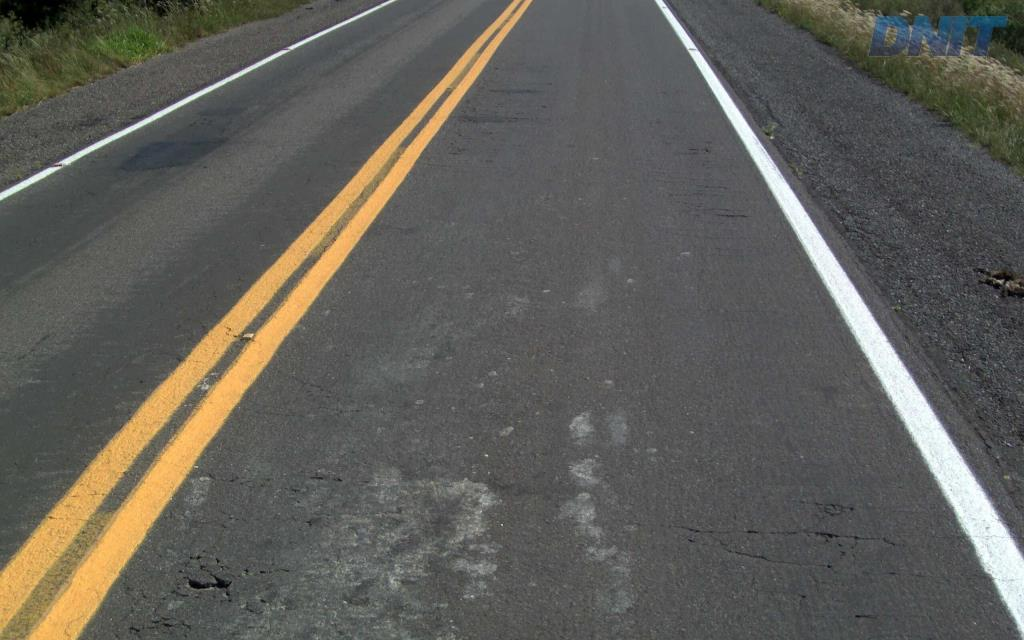crack: (182, 562, 232, 603), (813, 501, 854, 522)
